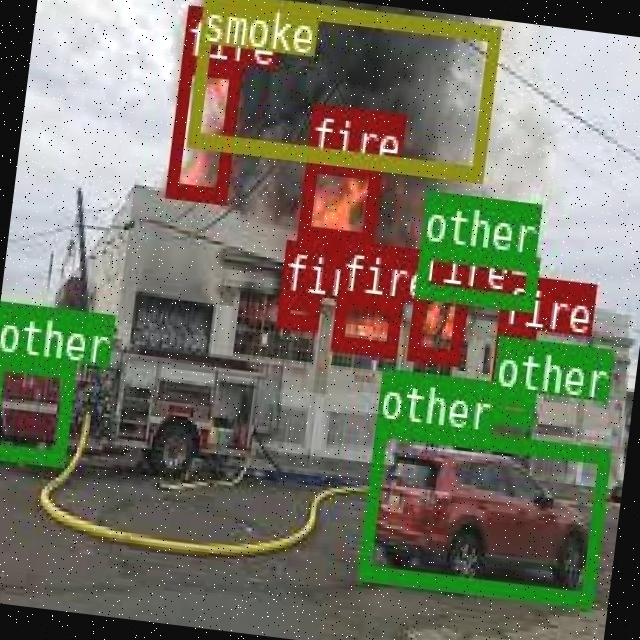fire: (163, 56, 240, 202), (294, 152, 380, 244), (404, 279, 466, 362), (328, 292, 398, 354), (490, 322, 532, 381), (275, 288, 319, 327)
smoke: (185, 0, 500, 178)
